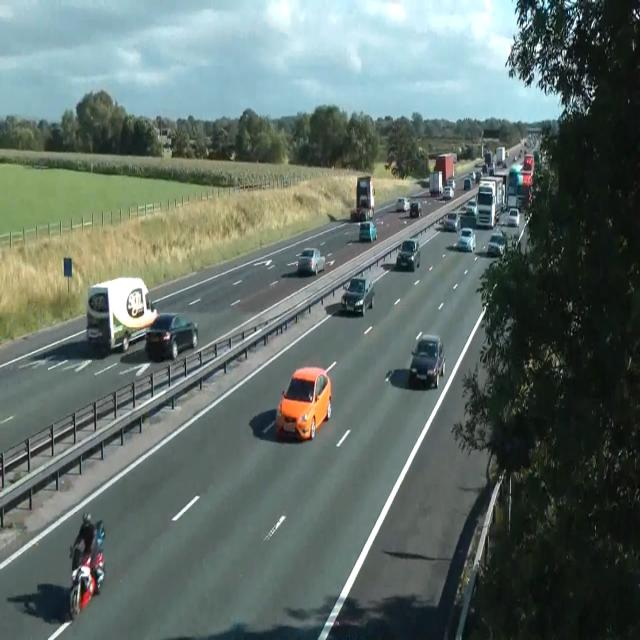bus: (296, 247, 326, 277), (359, 220, 377, 242), (396, 196, 410, 212), (466, 199, 476, 215), (446, 178, 456, 189), (468, 171, 476, 182), (475, 170, 481, 182), (488, 164, 494, 175)
jeep: (276, 365, 332, 441), (144, 311, 198, 361), (409, 330, 445, 388), (340, 274, 374, 316), (475, 185, 495, 228), (396, 238, 420, 270), (486, 230, 506, 256), (457, 226, 475, 252), (444, 211, 460, 231), (507, 206, 519, 227), (409, 201, 421, 218), (442, 184, 454, 200), (463, 178, 471, 190)
lorry: (68, 518, 105, 622)
minibus: (86, 276, 158, 354), (503, 159, 533, 212), (350, 175, 375, 221), (429, 153, 455, 196), (428, 170, 442, 197), (495, 146, 507, 166), (484, 151, 494, 175)
